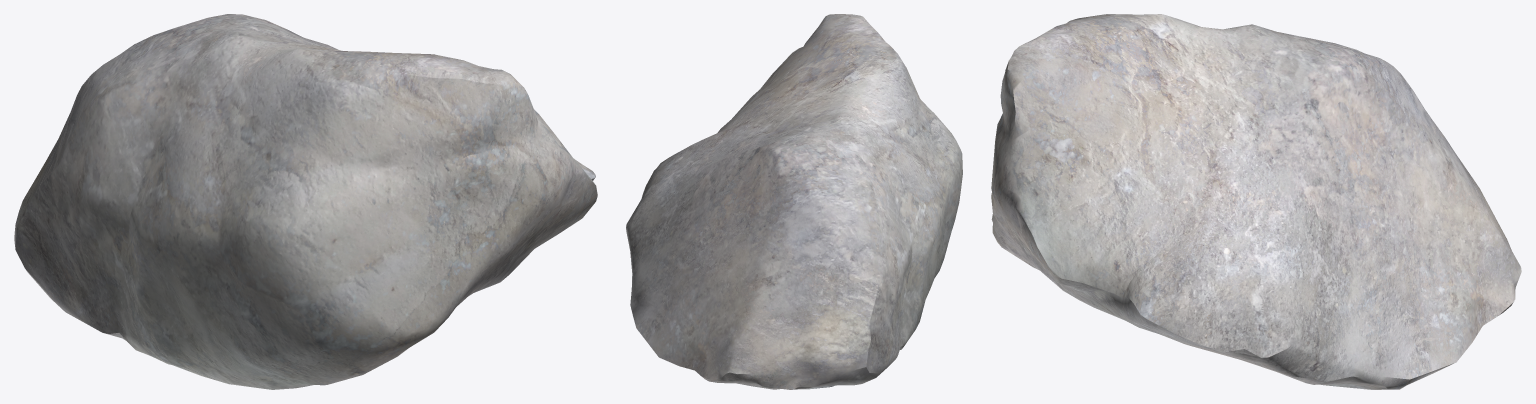
File: rock_00_2k.fbx
3 renders of one model, left to right at view 1: azimuth 30°, elevation 25°; view 2: azimuth 150°, elevation 25°; view 3: azimuth 270°, elevation 25°, orthographic. The views are drawn at different scales.
Visible parts, largest first — view 1: rock_00_2k; view 2: rock_00_2k; view 3: rock_00_2k.
Part boxes in pixels (<box>): rock_00_2k: <box>14,14,597,389</box>; rock_00_2k: <box>626,14,962,389</box>; rock_00_2k: <box>991,14,1521,389</box>.
Size of the model in its own units: 198 by 150 by 226.
